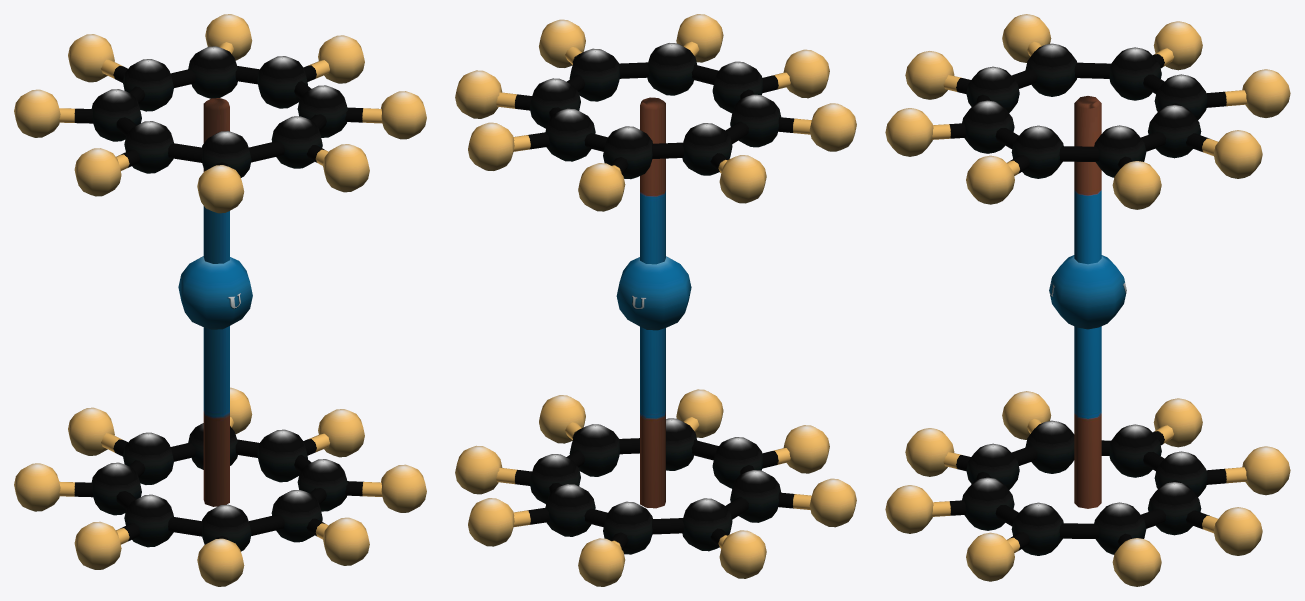
Rendered from Uranocene.dae.
3 renders of one model, left to right at view 1: azimuth 30°, elevation 25°; view 2: azimuth 150°, elevation 25°; view 3: azimuth 270°, elevation 25°, orthographic.
Parts seen in each view (by area): view 1: polySurface200; view 2: polySurface200; view 3: polySurface200.
Part boxes in pixels (x1,y1,x2,y2): polySurface200: (14,14,426,586); polySurface200: (455,14,856,586); polySurface200: (885,14,1290,586).
Bounding box in the file's own units: 5.2 × 6.15 × 5.31.
1 material, 1 textured.
